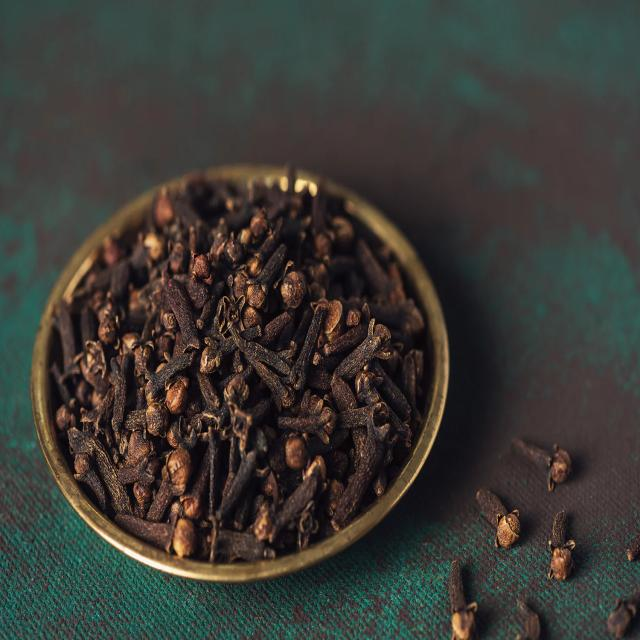clove: (51, 178, 425, 563), (451, 564, 475, 637), (498, 506, 519, 546)
